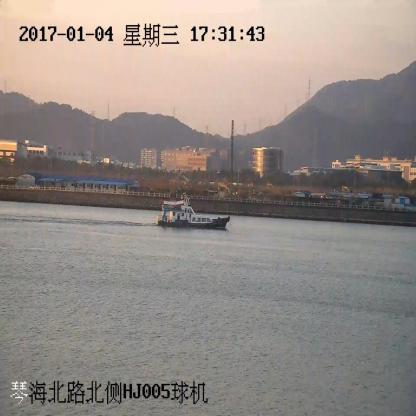Fishing Boat: (156, 200, 229, 230)
